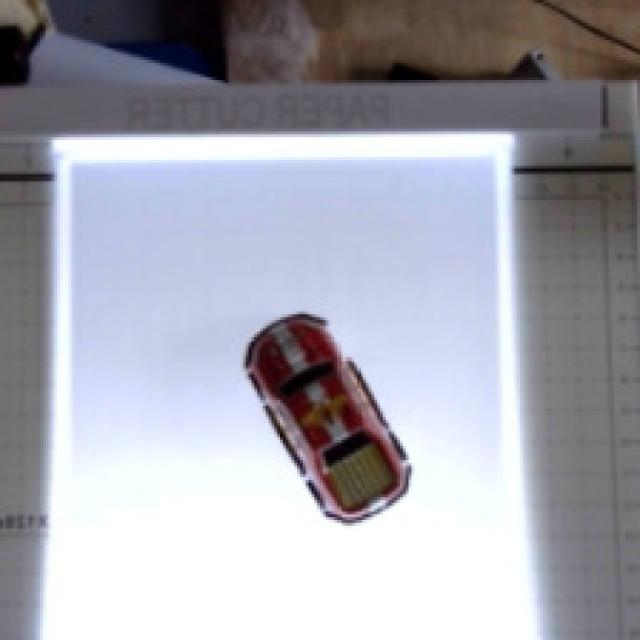Red Car: (165, 311, 452, 556)
